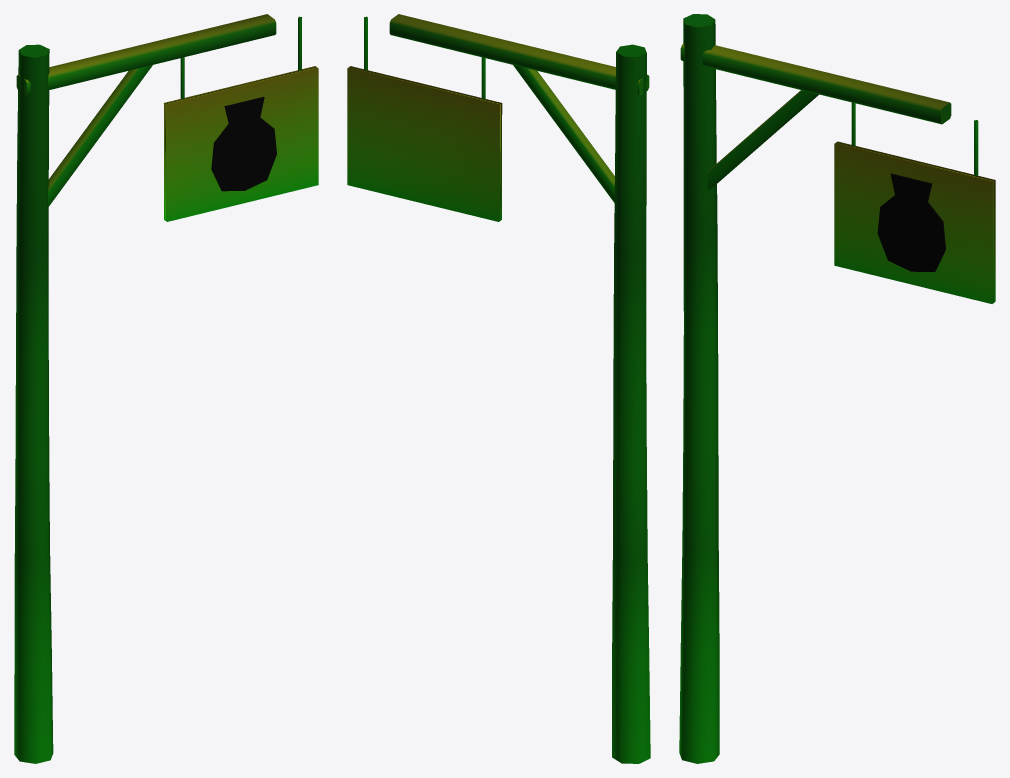
The model's file is shop_sign_goods.glb.
3 renders of one model, left to right at view 1: azimuth 30°, elevation 25°; view 2: azimuth 150°, elevation 25°; view 3: azimuth 330°, elevation 25°, orthographic. The views are drawn at different scales.
Visible parts, largest first — view 1: shop_sign_goods; view 2: shop_sign_goods; view 3: shop_sign_goods.
Part boxes in pixels (<box>): shop_sign_goods: <box>14,14,318,763</box>; shop_sign_goods: <box>347,14,650,763</box>; shop_sign_goods: <box>679,14,995,763</box>.
Size of what is drawn, in the model's own units: 1.2 by 2.7 by 0.134.
